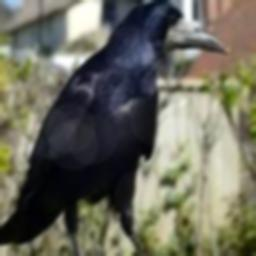Crow: (0, 0, 228, 256)
